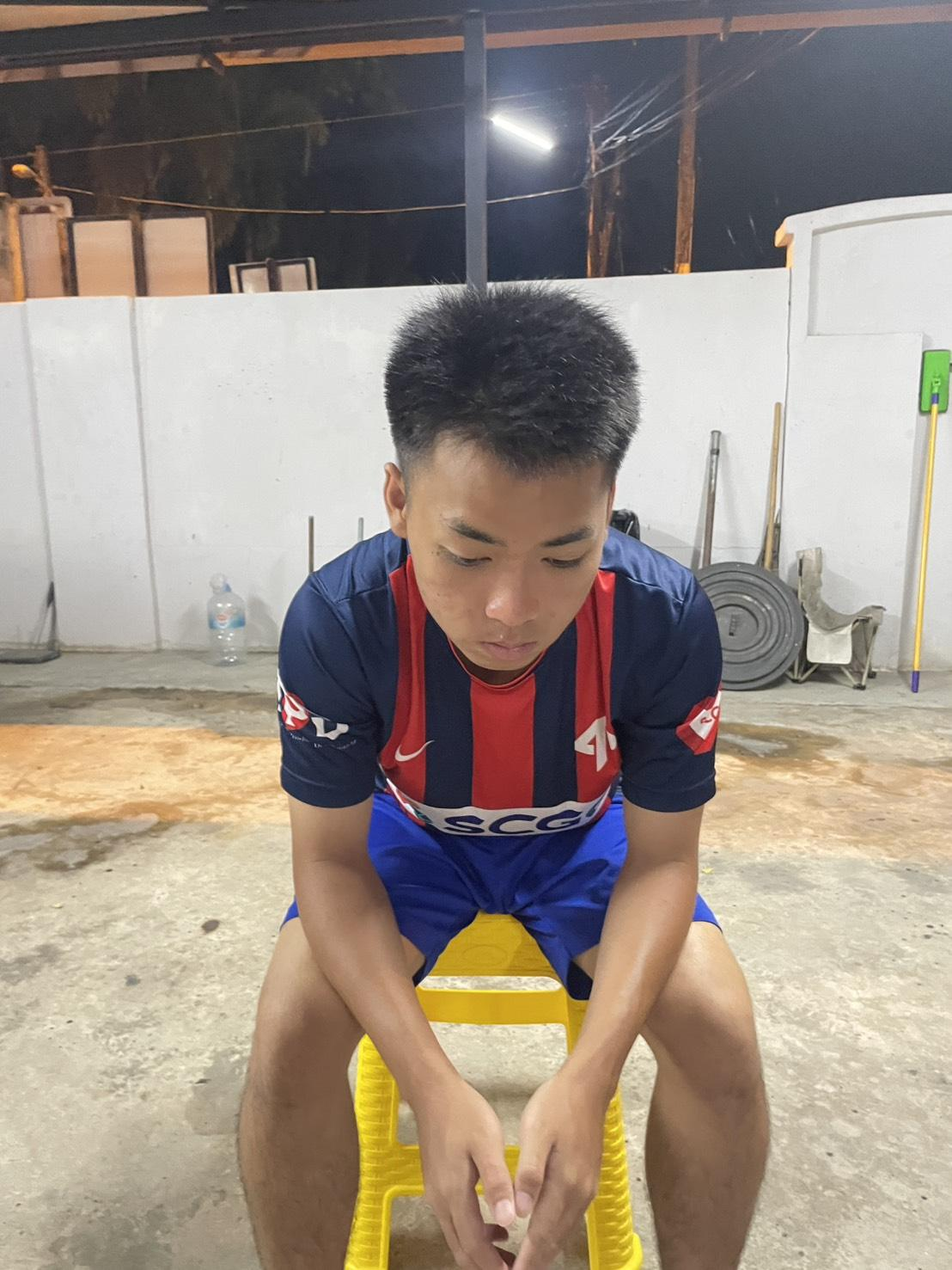BadPosture: (278, 284, 721, 963), (278, 287, 721, 874), (278, 284, 721, 846)
